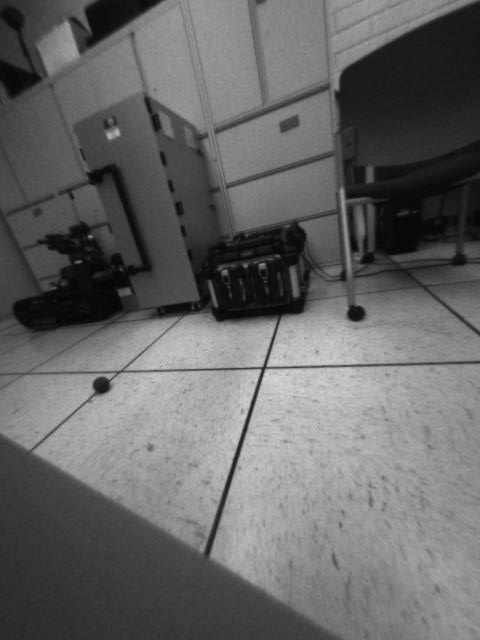dogtoy: (90, 371, 117, 398)
